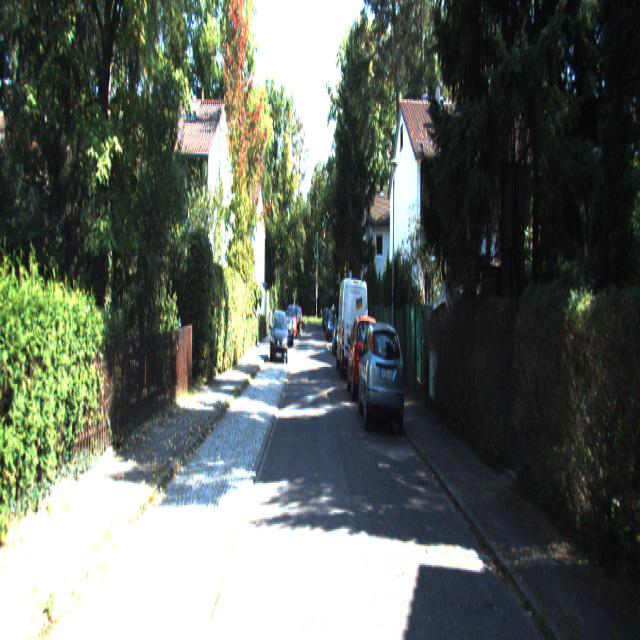Car: (357, 316, 405, 438), (336, 273, 369, 382), (347, 310, 384, 404), (271, 310, 288, 366)
